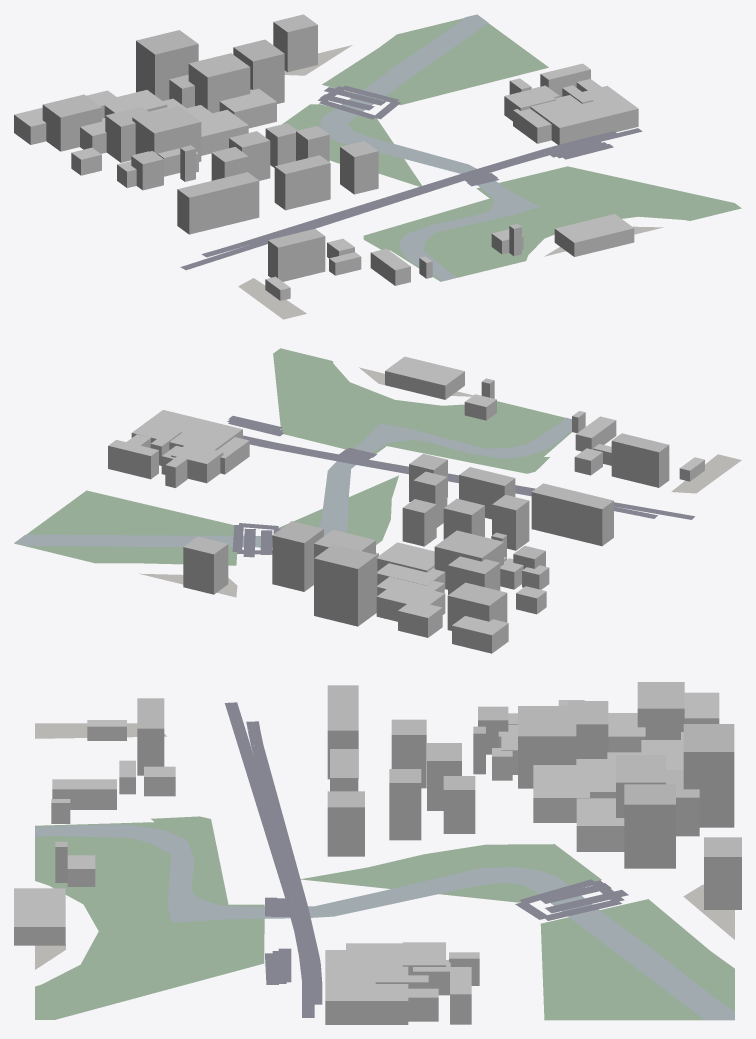
The model's file is 124_109_mid.glb.
3 views of the same model, one above another, from view 1: azimuth 30°, elevation 25°; view 2: azimuth 150°, elevation 25°; view 3: azimuth 270°, elevation 25° (orthographic). The views are drawn at different scales.
Bounding box in the file's own units: 536 × 60.43 × 520.
